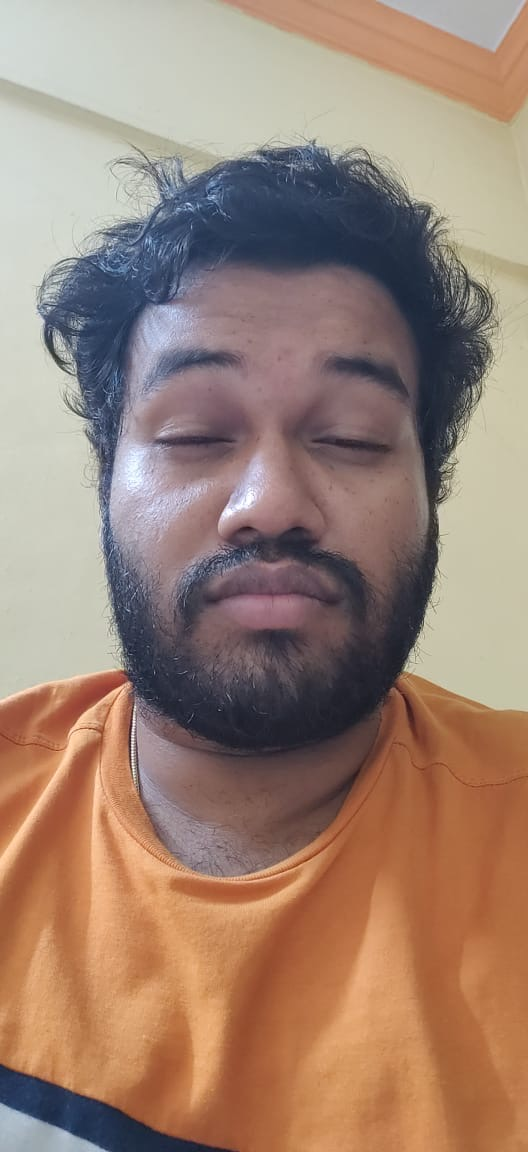Sleeping: (133, 398, 417, 484)
